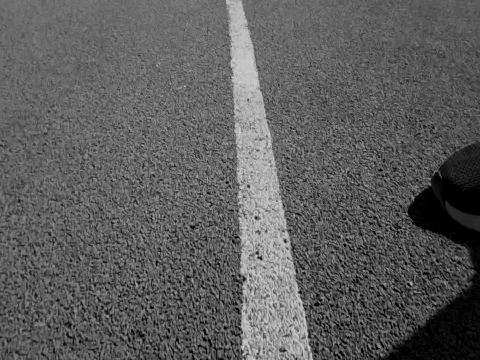Lines: (224, 0, 314, 360)
